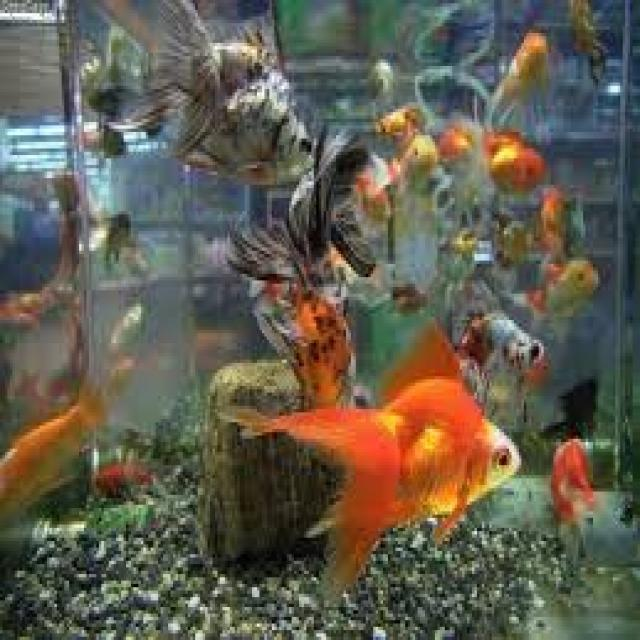goldfish: (235, 349, 538, 563)
